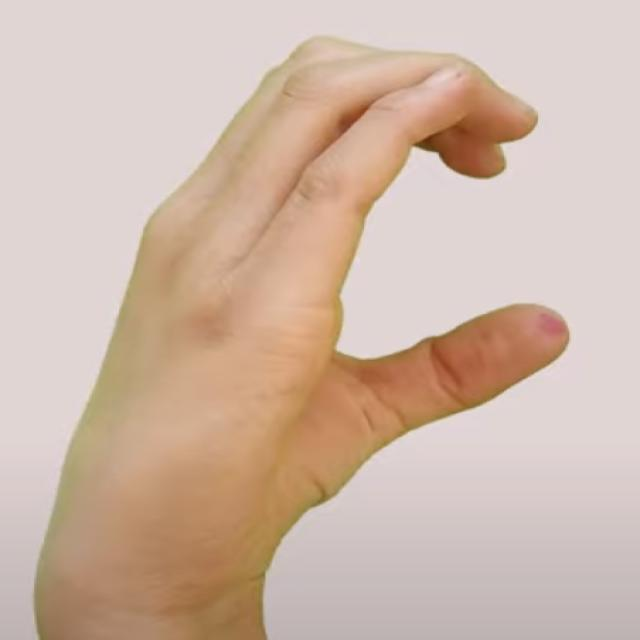C: (43, 23, 587, 607)
